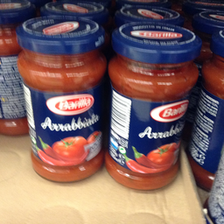tomato_sauce: (105, 19, 200, 193), (16, 15, 107, 184)
